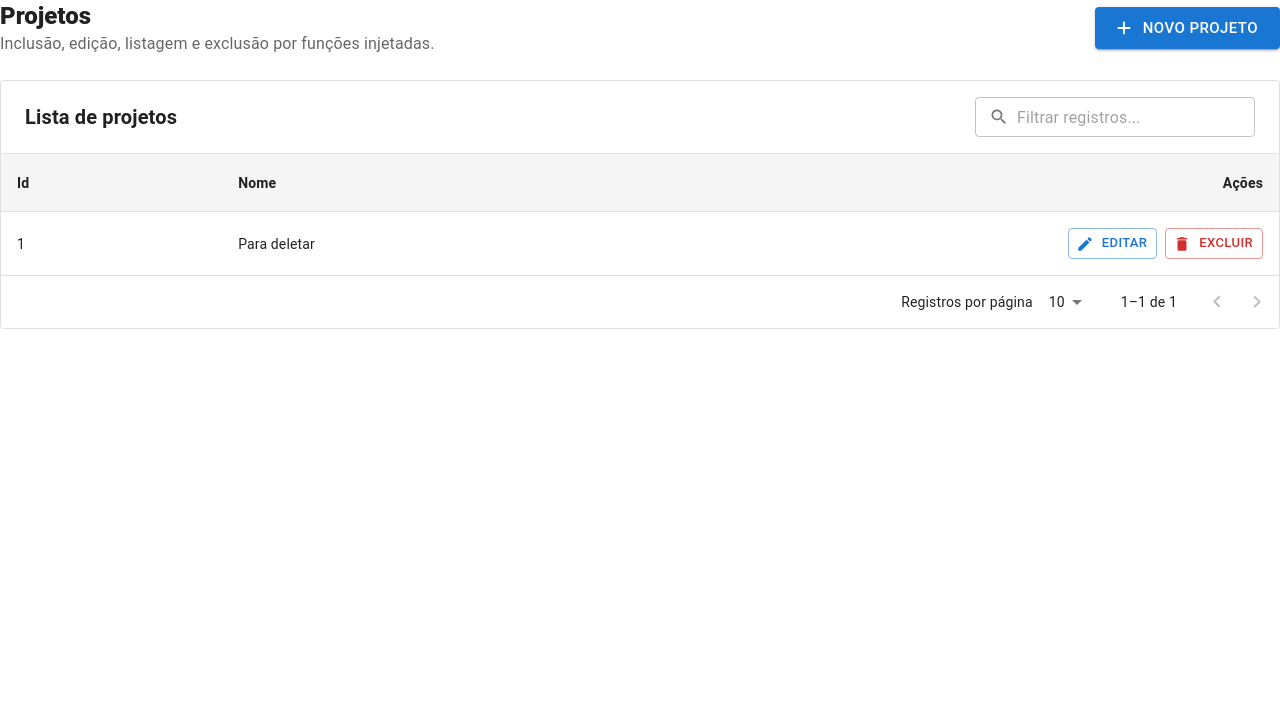
it: Cadastro — botões com feedback (st-9) › diálogo de exclusão: botão muda para 'Excluindo...', alerta de sucesso aparece e registro some
What coordinates should you click on to do the following:
click the button "Excluir"
I would click on:
 (1214, 244)
Its box is [1165,228,1263,259].
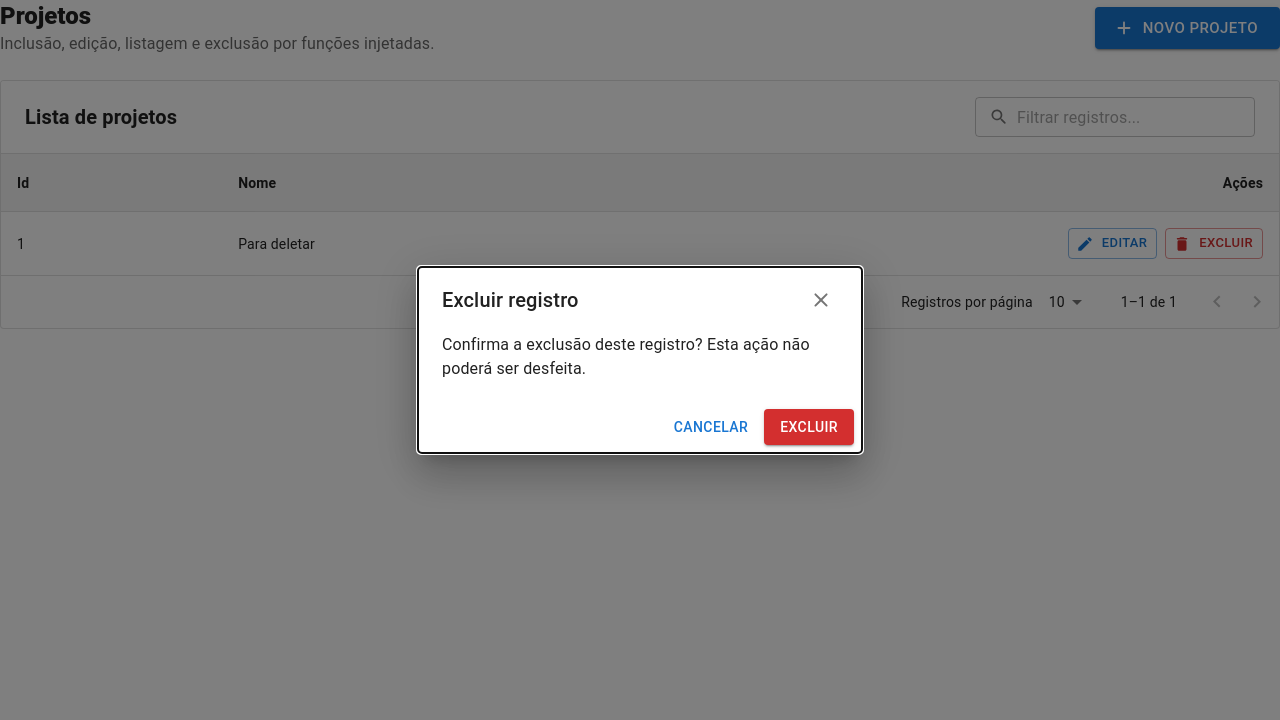
Now the text "Excluir registro" is shown, box [442,284,578,316]
// Confirma exclusão — botão do diálogo é desabilitado, label muda para "Excluindo..."
What coordinates should you click on to do the following:
click the button "Excluir"
I would click on:
 (809, 427)
Its box is [764,409,854,445].
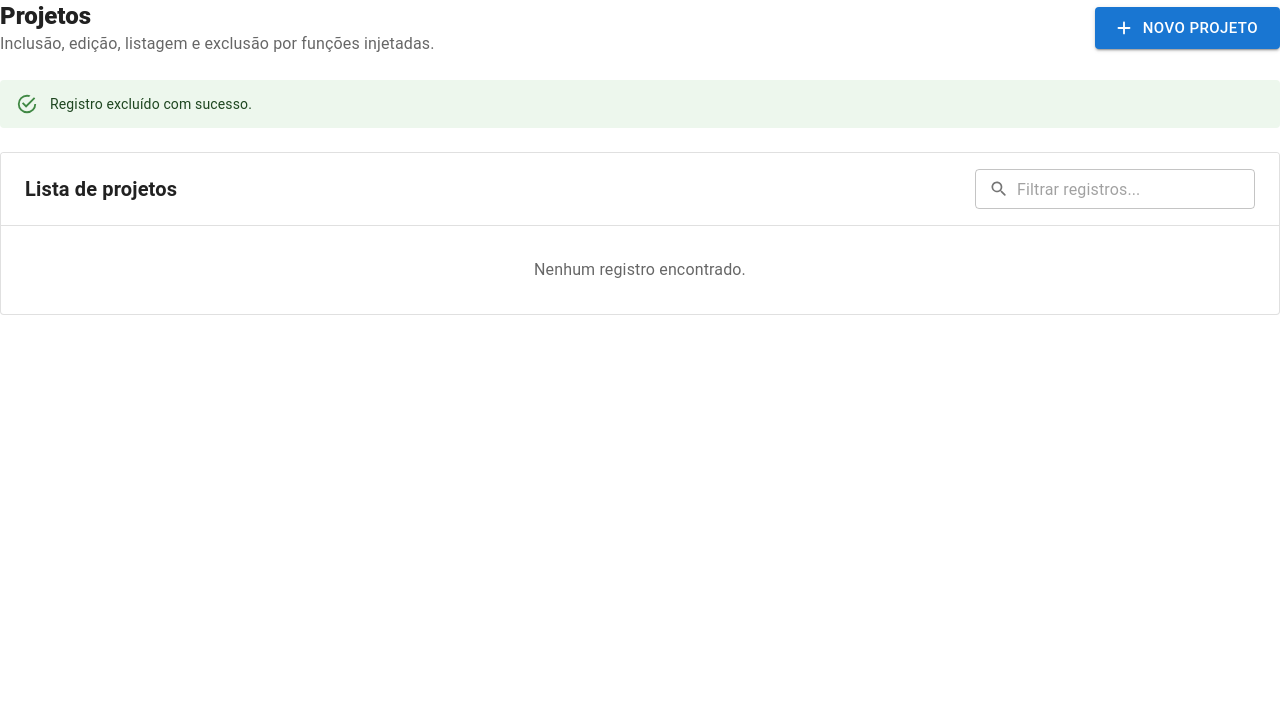
Now the text "Registro excluído com sucesso." is shown, box [50,96,252,112]
Now the text "Para deletar" is gone
